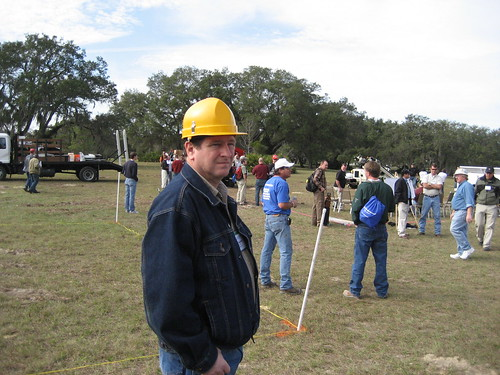person hardhat: (138, 97, 277, 375), (446, 165, 479, 263), (22, 147, 38, 188)
